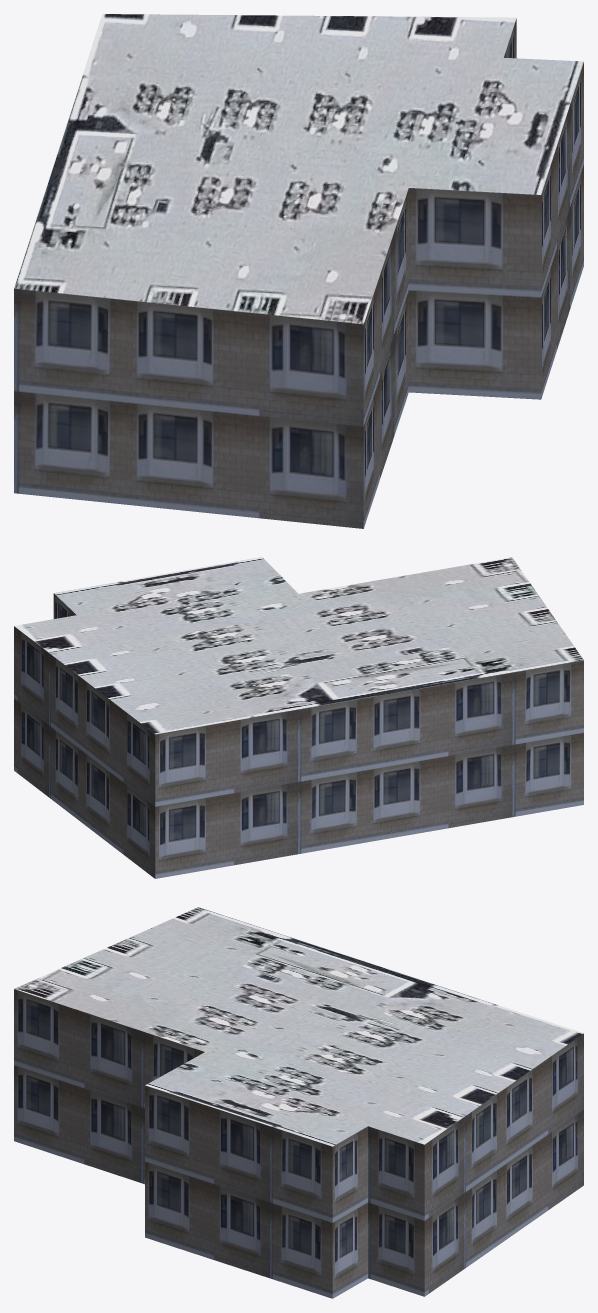
File: ResTex__496.fbx
3 views of the same model, one above another, from view 1: azimuth 30°, elevation 25°; view 2: azimuth 150°, elevation 25°; view 3: azimuth 270°, elevation 25° (orthographic). The views are drawn at different scales.
Visible parts, largest first — view 1: CityEngineMaterial_m, CityEngineMaterial_3_m; view 2: CityEngineMaterial_3_m, CityEngineMaterial_m; view 3: CityEngineMaterial_3_m, CityEngineMaterial_m.
Part boxes in pixels (x1=…): CityEngineMaterial_m: x1=14, y1=14, x2=583, y2=324; CityEngineMaterial_3_m: x1=14, y1=18, x2=583, y2=528; CityEngineMaterial_3_m: x1=14, y1=593, x2=583, y2=878; CityEngineMaterial_m: x1=14, y1=557, x2=583, y2=734; CityEngineMaterial_3_m: x1=14, y1=989, x2=583, y2=1298; CityEngineMaterial_m: x1=14, y1=907, x2=583, y2=1146.
Bounding box in the file's own units: 20.26 × 6 × 20.37.
2 materials, 2 textured.
